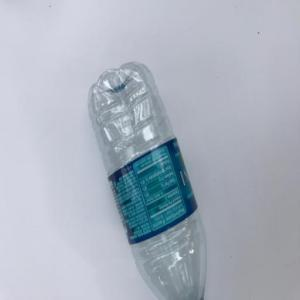Plastic-bottle: (87, 61, 209, 300)
